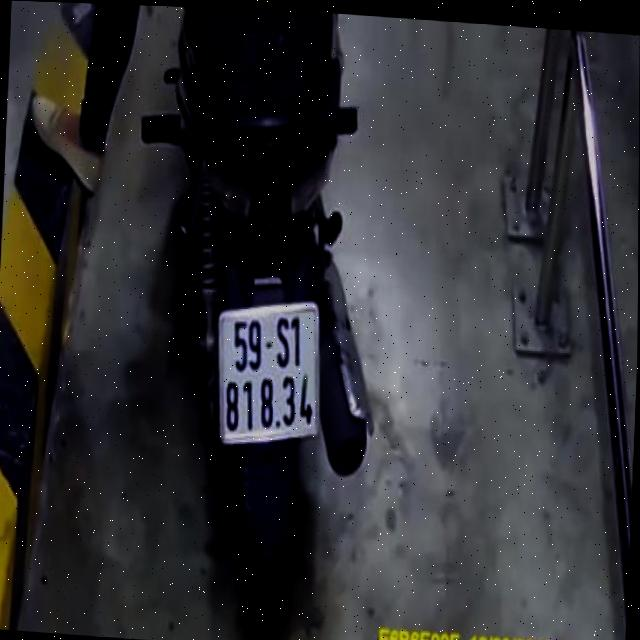motorcycle: (124, 5, 392, 614)
plate: (209, 293, 324, 454)
